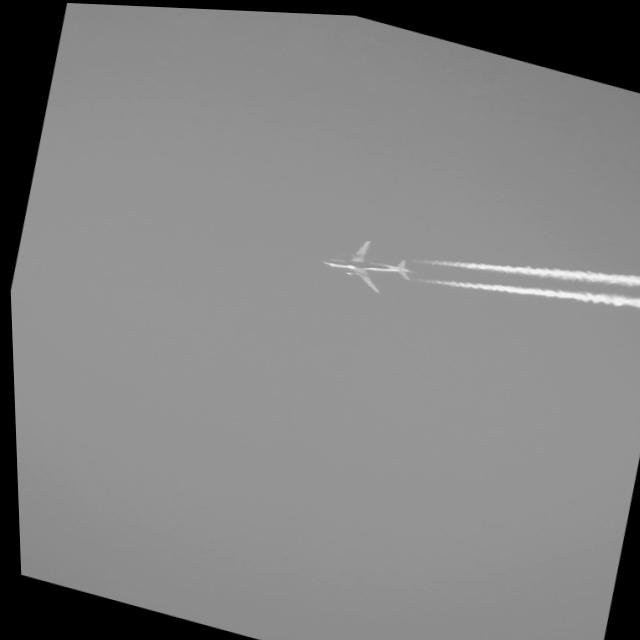aeroplane: (310, 221, 417, 305)
